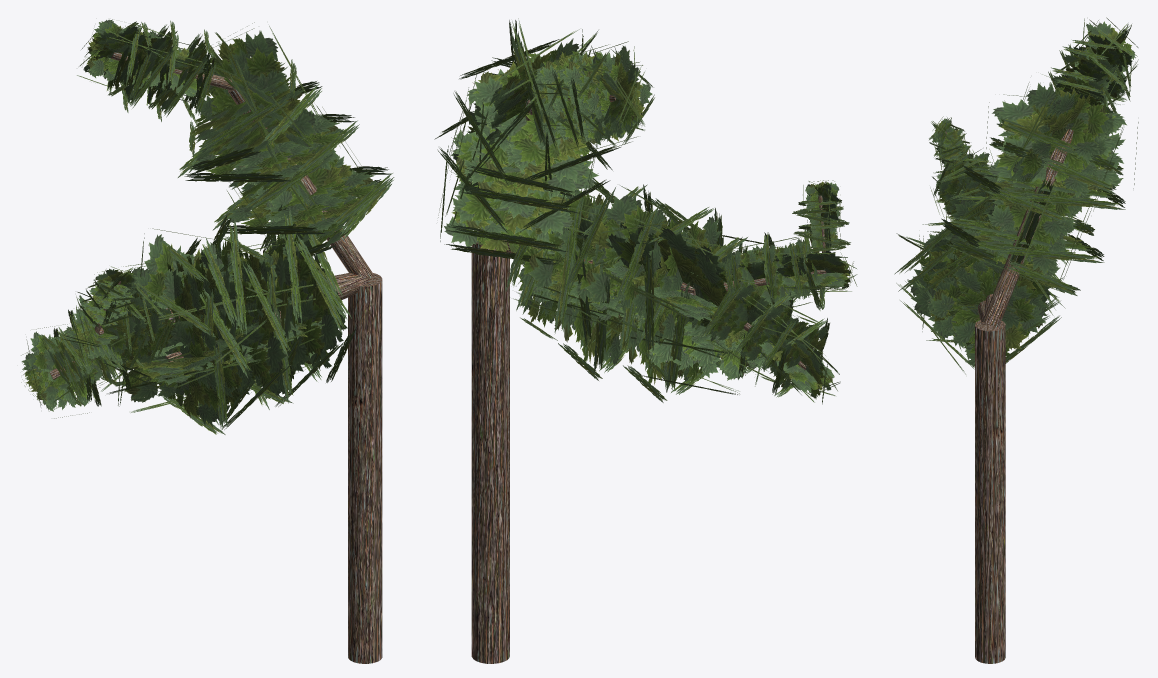
Rendered from madeTree.obj.
3 views of the same model, side by side, from view 1: azimuth 30°, elevation 25°; view 2: azimuth 150°, elevation 25°; view 3: azimuth 270°, elevation 25° (orthographic). The views are drawn at different scales.
Visible parts, largest first — view 1: leaf (1), treeStart leaves, leaf (3), leaf (5), leaf (4), leaf (6), leaf (10), leaf (2), leaf, leaf (13), leaf (14), leaf (9) (+5 smaller); view 2: treeStart leaves, leaf (5), leaf (3), leaf (1), leaf (6), leaf (4), leaf (2), leaf (14), leaf, leaf (13), leaf (10), leaf (9) (+4 smaller); view 3: treeStart leaves, leaf, leaf (1), leaf (3), leaf (6), leaf (5), leaf (14), leaf (2), leaf (4), leaf (7), leaf (13), leaf (8) (+5 smaller).
Boxes of the visible parts, left/top/right/bottom form: leaf (1): left=79, top=29, right=394, bottom=409; treeStart leaves: left=348, top=273, right=382, bottom=663; leaf (3): left=68, top=20, right=359, bottom=432; leaf (5): left=41, top=21, right=296, bottom=434; leaf (4): left=53, top=22, right=322, bottom=424; leaf (6): left=26, top=24, right=317, bottom=418; leaf (10): left=22, top=19, right=322, bottom=411; leaf (2): left=92, top=31, right=339, bottom=403; leaf: left=81, top=40, right=391, bottom=382; leaf (13): left=21, top=20, right=322, bottom=412; leaf (14): left=21, top=28, right=277, bottom=411; leaf (9): left=22, top=37, right=281, bottom=410; treeStart leaves: left=471, top=242, right=509, bottom=663; leaf (5): left=453, top=39, right=841, bottom=397; leaf (3): left=451, top=44, right=849, bottom=402; leaf (1): left=438, top=44, right=850, bottom=380; leaf (6): left=462, top=30, right=857, bottom=395; leaf (4): left=457, top=57, right=843, bottom=386; leaf (2): left=434, top=52, right=844, bottom=373; leaf (14): left=478, top=29, right=857, bottom=404; leaf: left=440, top=53, right=846, bottom=343; leaf (13): left=509, top=20, right=853, bottom=396; leaf (10): left=514, top=18, right=853, bottom=392; leaf (9): left=472, top=45, right=852, bottom=397; treeStart leaves: left=975, top=320, right=1005, bottom=663; leaf: left=913, top=79, right=1106, bottom=374; leaf (1): left=898, top=67, right=1117, bottom=369; leaf (3): left=894, top=46, right=1130, bottom=345; leaf (6): left=896, top=18, right=1138, bottom=297; leaf (5): left=919, top=28, right=1137, bottom=327; leaf (14): left=923, top=17, right=1138, bottom=258; leaf (2): left=922, top=55, right=1126, bottom=342; leaf (4): left=905, top=40, right=1131, bottom=287; leaf (7): left=940, top=61, right=1120, bottom=311; leaf (13): left=931, top=24, right=1131, bottom=227; leaf (8): left=929, top=61, right=1118, bottom=307.
Size of the model in its own units: 6.02 by 10.17 by 4.13.
